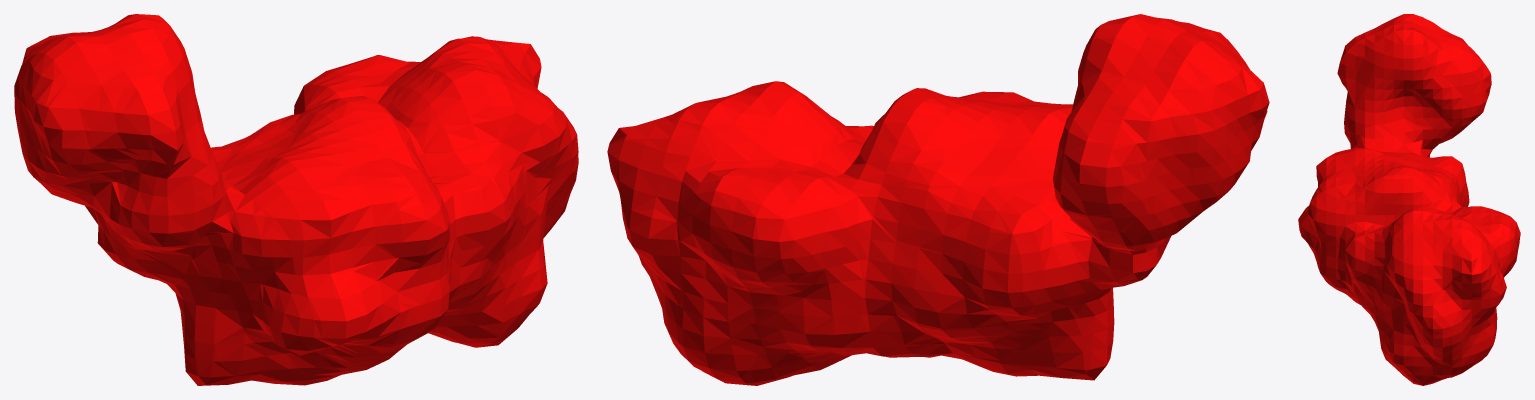
Rendered from treR_coarse.dae.
3 views of the same model, side by side, from view 1: azimuth 30°, elevation 25°; view 2: azimuth 150°, elevation 25°; view 3: azimuth 270°, elevation 25° (orthographic). The views are drawn at different scales.
Parts seen in each view (by area): view 1: treR; view 2: treR; view 3: treR.
Part boxes in pixels (bbox=[...]): treR: bbox=[14, 14, 578, 385]; treR: bbox=[607, 14, 1269, 385]; treR: bbox=[1298, 14, 1520, 385].
Bounding box in the file's own units: 86.82 × 61.26 × 49.14.
